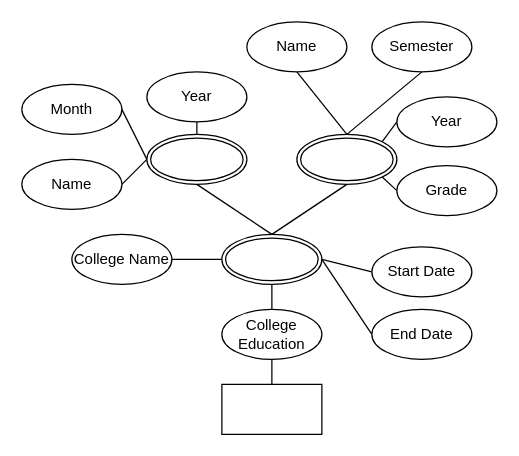
Image size: 519x456. Some labels were removed from this diagram. The centre of each missing label's shape, as x and y in pixels:
College: (271,258)
Degree: (196,158)
Student: (271,408)
Transcript: (346,158)
